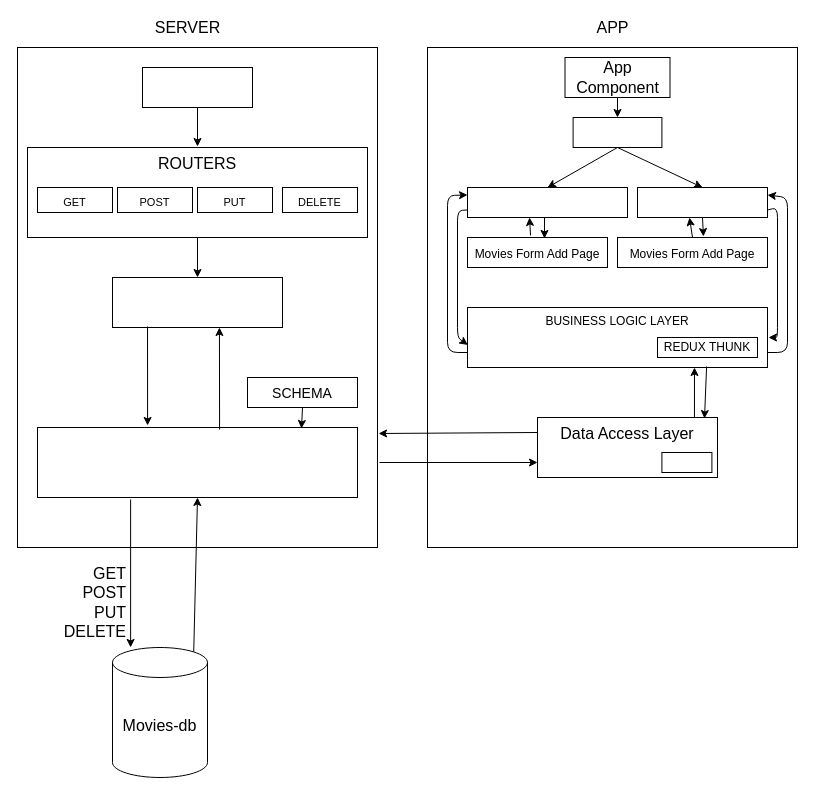
Image size: 815x795. Some labels were removed from this diagram. The shapes that lost their labels are listed below. From the top down, each one's centre as x and y in pixels, then its label:
At point 197,87: "APP EXPRESS".
At point 617,132: "Public".
At point 547,202: "Movies Form Add Container".
At point 702,202: "Movies Container".
At point 197,302: "CONTROLLERS".
At point 197,462: "MODEL".
At point 686,462: "API".
